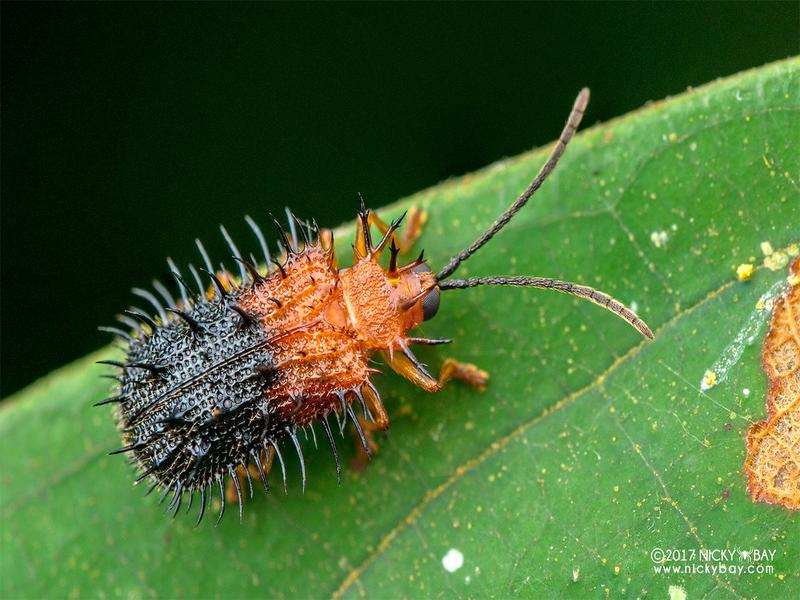Spiny_beetle: (63, 199, 510, 500)
